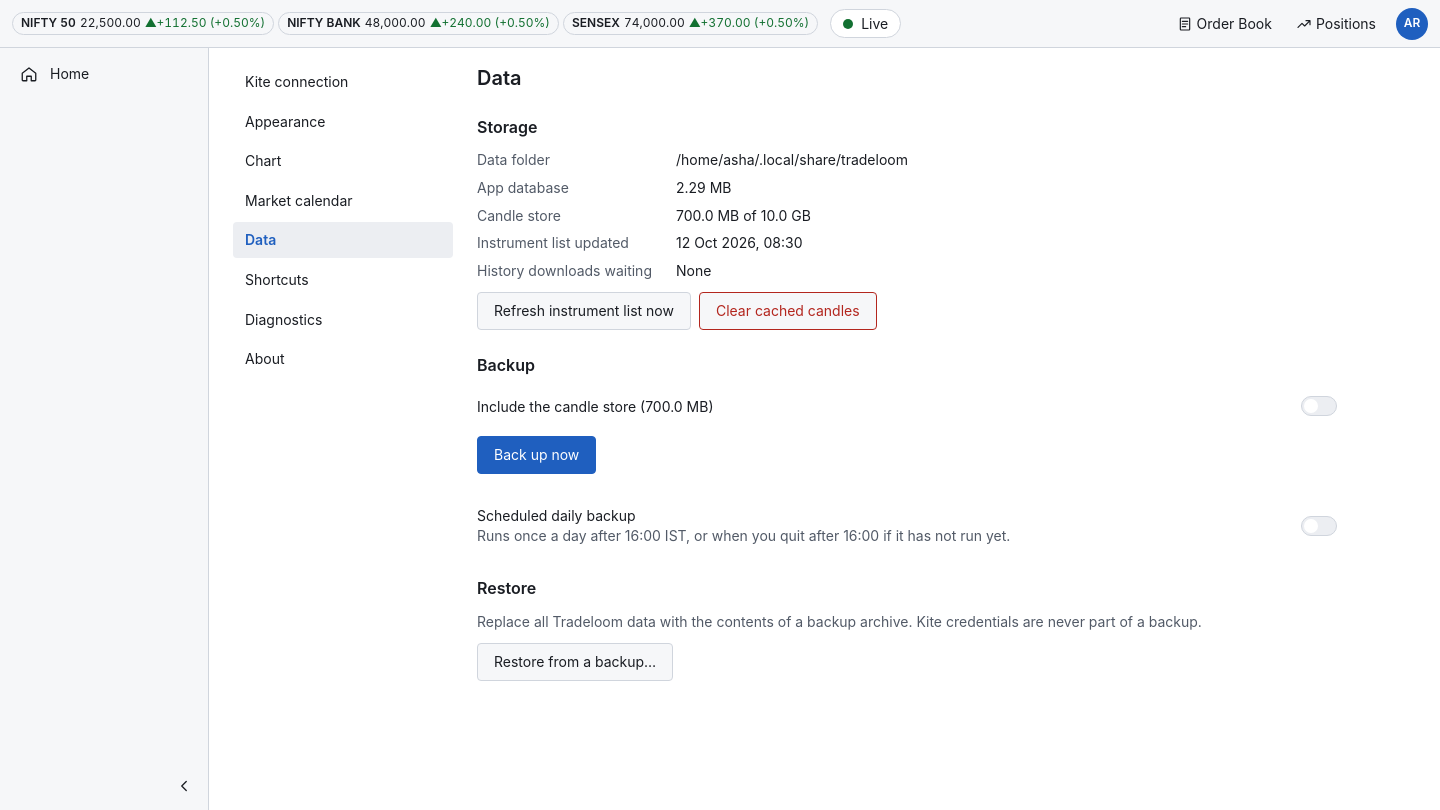
it: Settings → Data (FR-ACCT-012, FR-DATA-005 UI) › a restore Go refuses before starting (job_running) shows the reason and re-enables settings writes
Click the button "Restore from a backup…" at (575, 662), box [477,643,673,681]
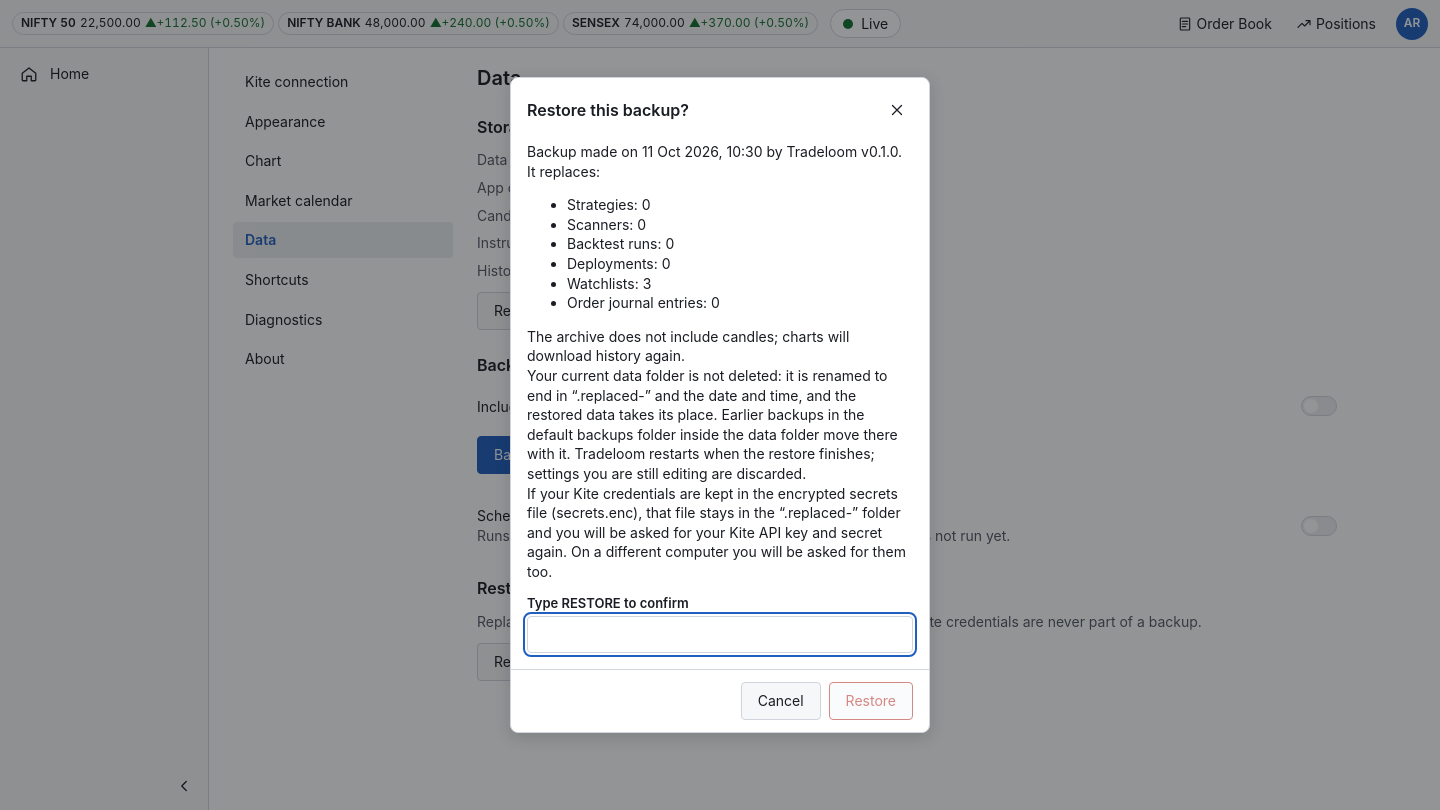
Type "RESTORE" into the field labelled "Type RESTORE to confirm" at (720, 634), box [527,616,913,653]
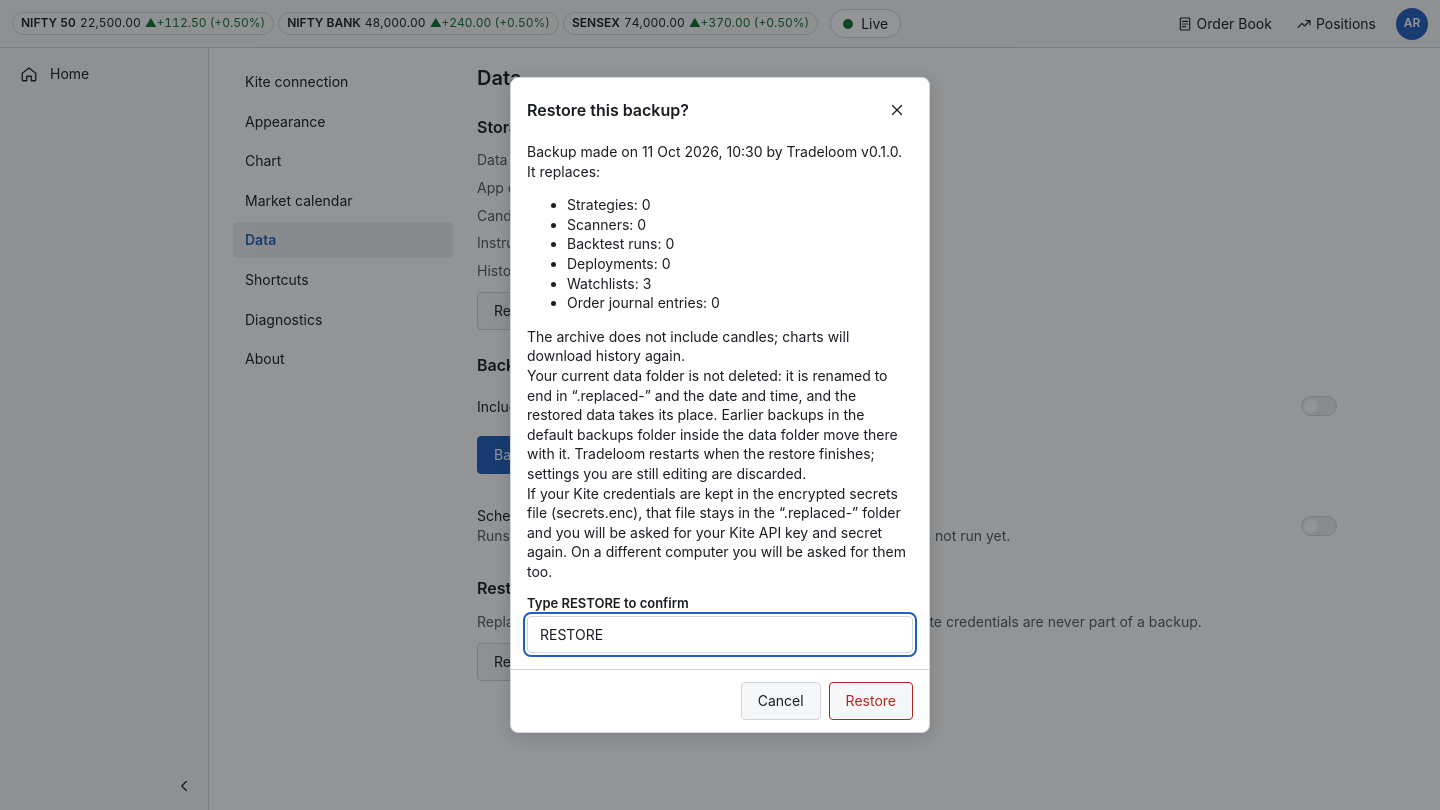
Click the button "Restore" at (871, 701), box [829,682,913,720]
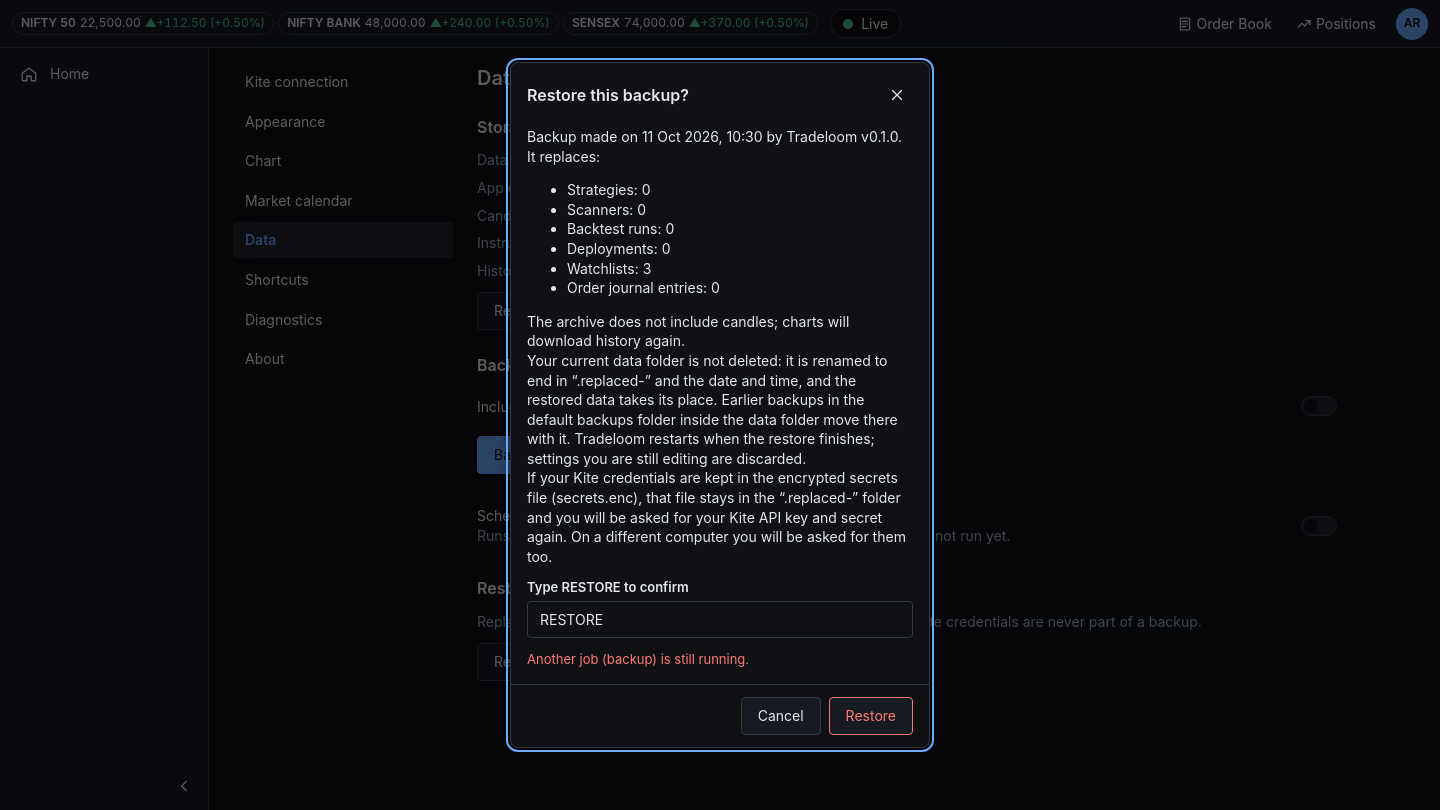
Expected: the message reads "Another job (backup) is still running.", [527,651,749,667]
